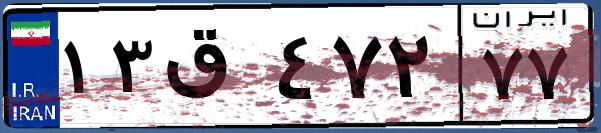1: (57, 26, 110, 100)
2: (385, 28, 445, 110)
3: (110, 28, 158, 98)
4: (270, 28, 330, 110)
7: (330, 28, 385, 110), (475, 38, 525, 113), (525, 38, 570, 115)
ق: (158, 20, 270, 120)
